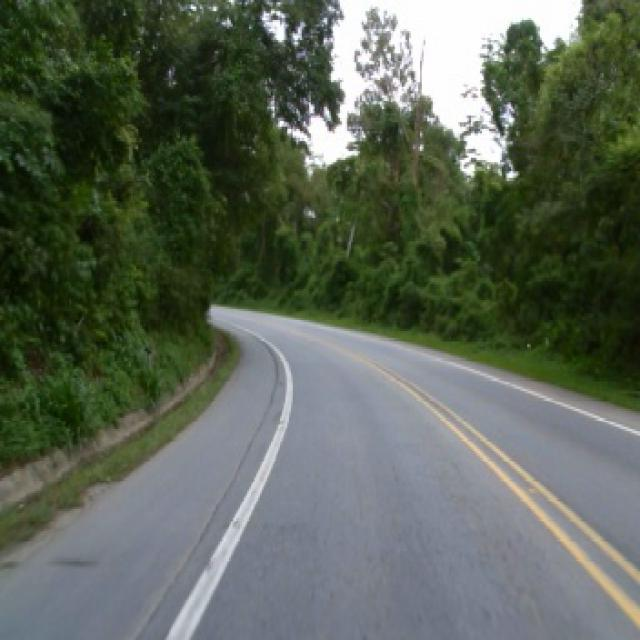Poth-hole: (529, 484, 538, 492)
